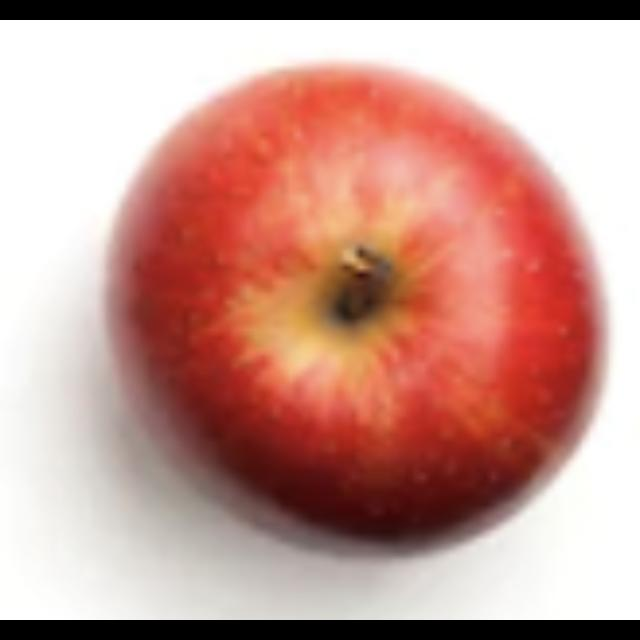Apel Segar: (52, 56, 626, 574)
